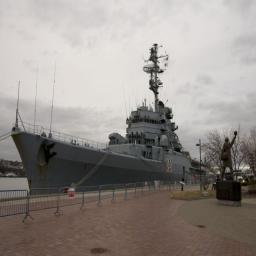Portanaves: (8, 35, 222, 202)
